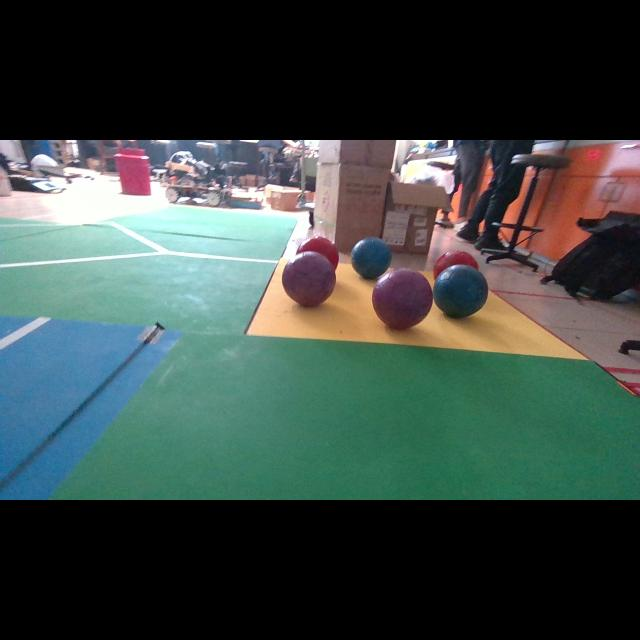B: (432, 265, 488, 318), (350, 238, 391, 278)
P: (372, 269, 432, 328), (282, 251, 336, 307)
R: (296, 236, 339, 269), (434, 250, 479, 278)
